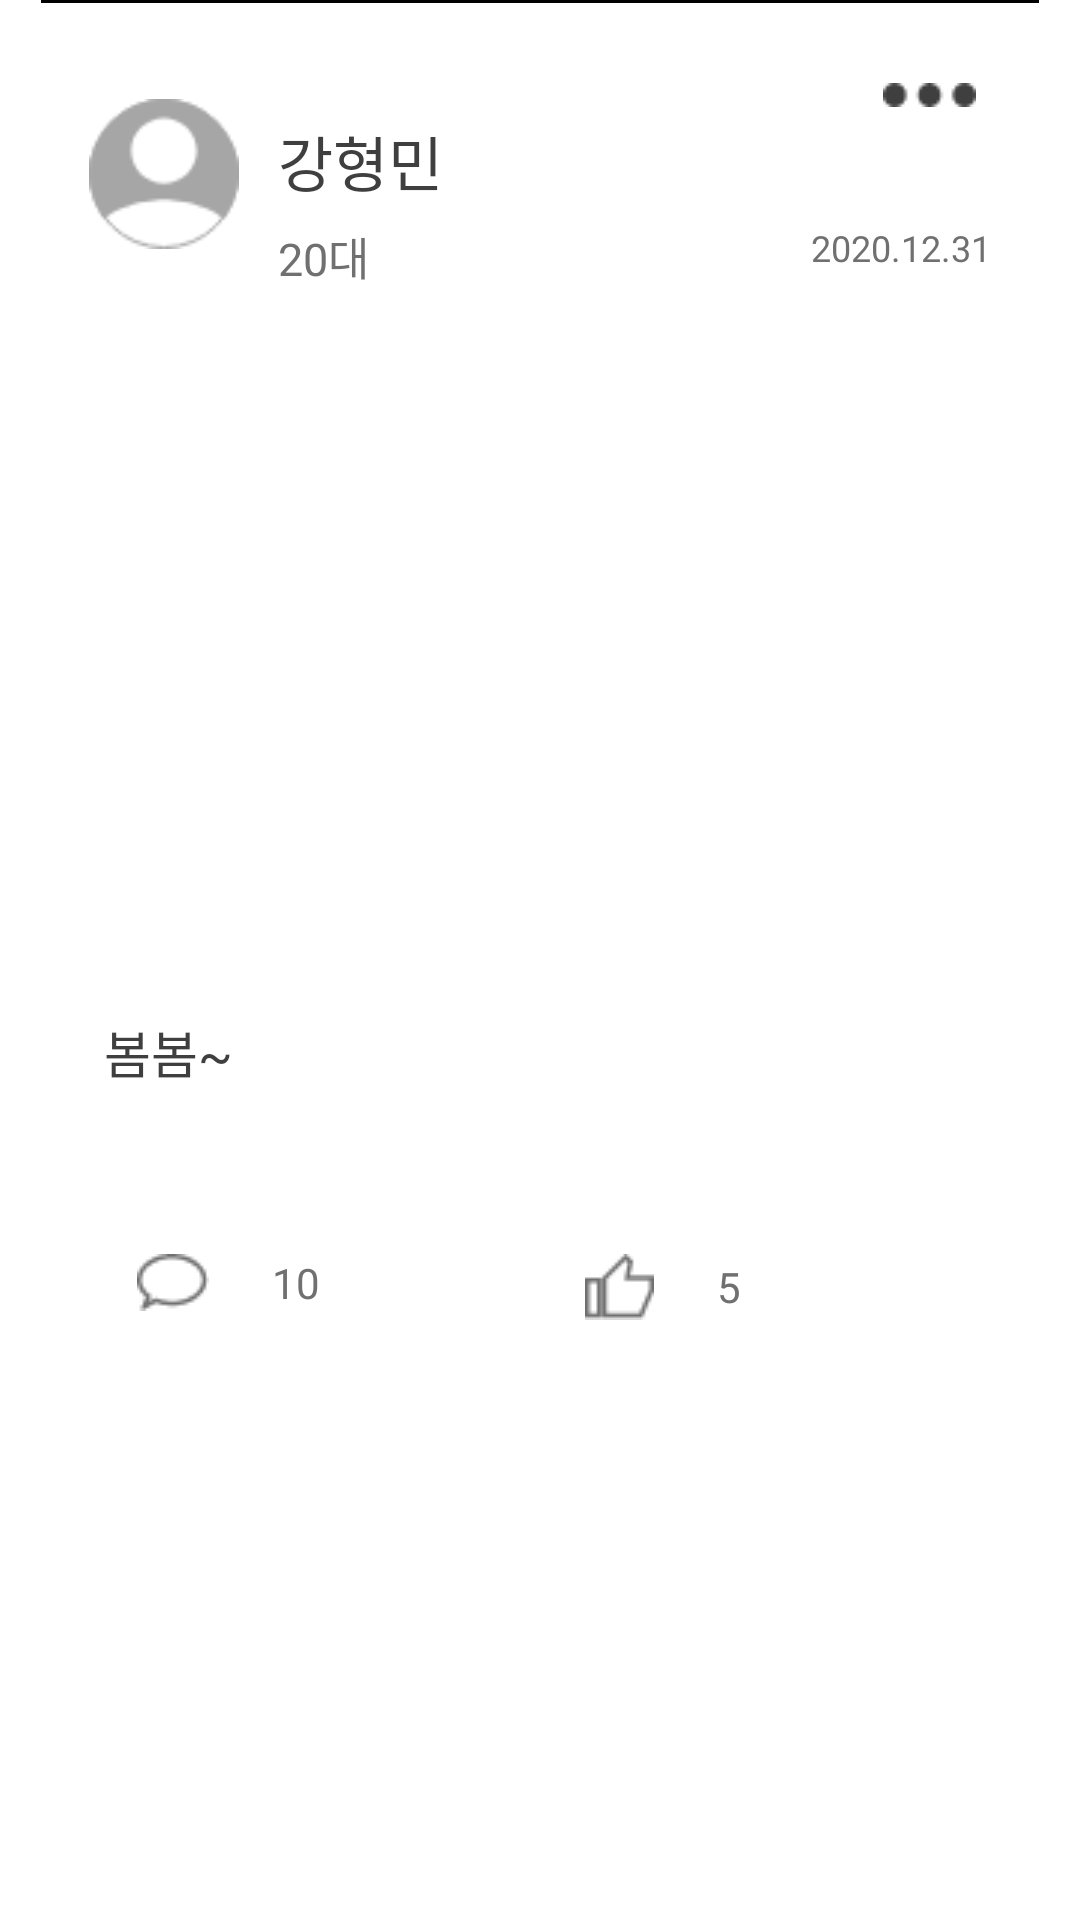

Named icons in this screenshot (1080 × 1920) and their centers, (x,y):
comment: (173,1282)
keyword post menu: (929,95)
like: (619,1287)
profile: (164,174)
